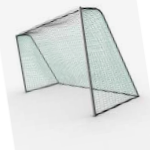goals: (13, 5, 141, 118)
